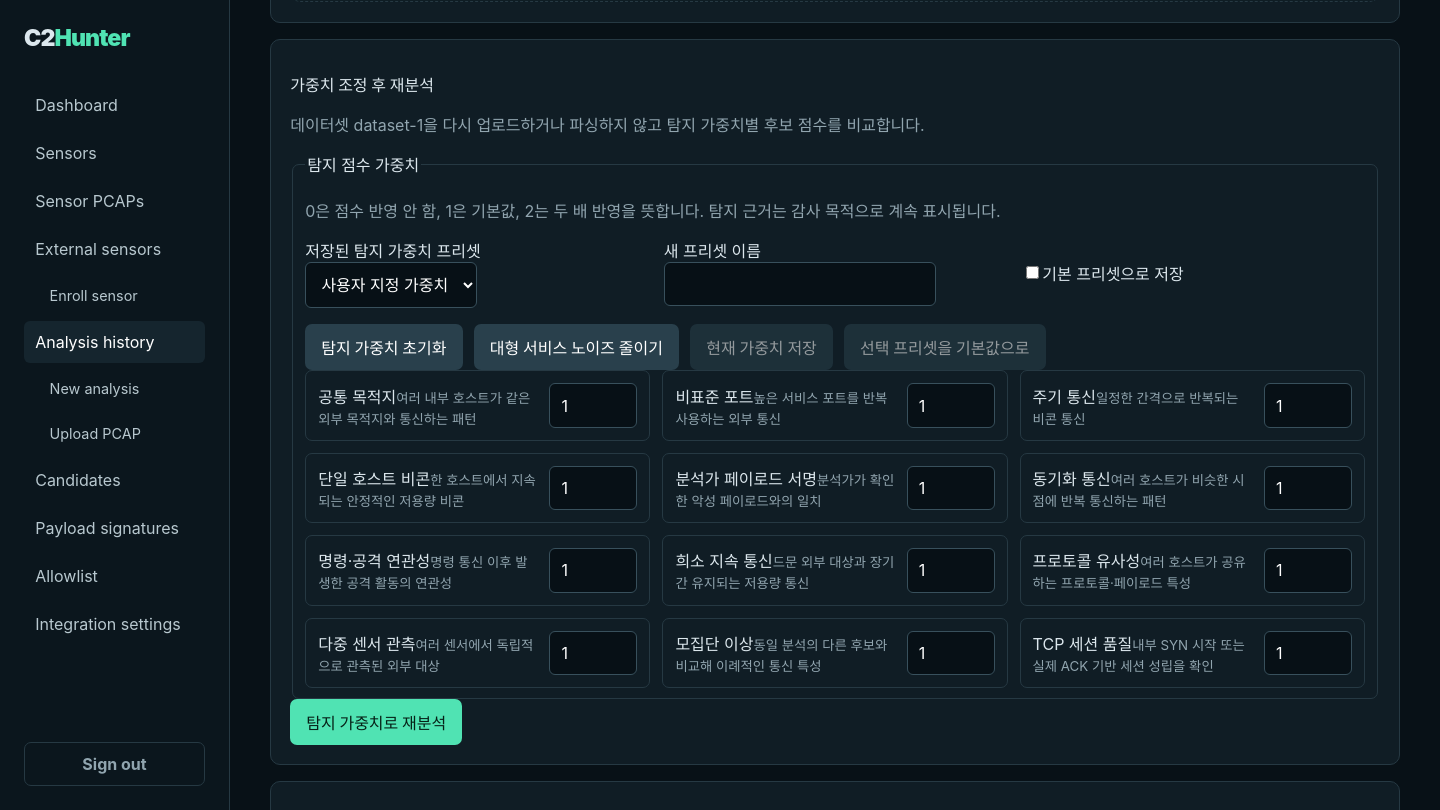
C2Hunter UI › resets reanalysis weights when navigating between completed jobs
(page scrolled)
Replace the text in the number field labelled "공통 목적지" with "0.25" at [593, 406], box top-left (549, 383), bottom-right (637, 428)
(page scrolled)
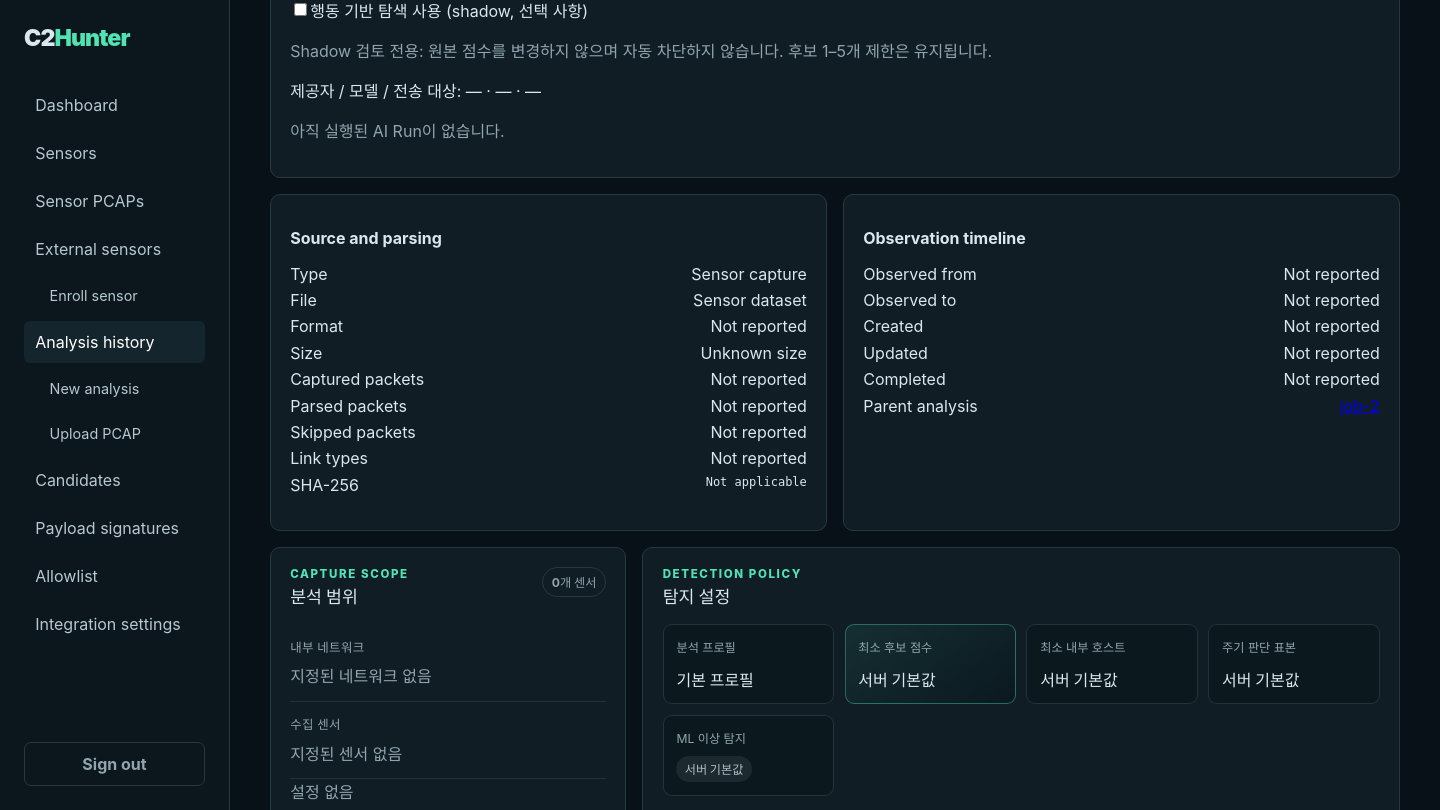
Click the link "job-2" at [1360, 406], box top-left (1340, 396), bottom-right (1380, 416)
(page scrolled)
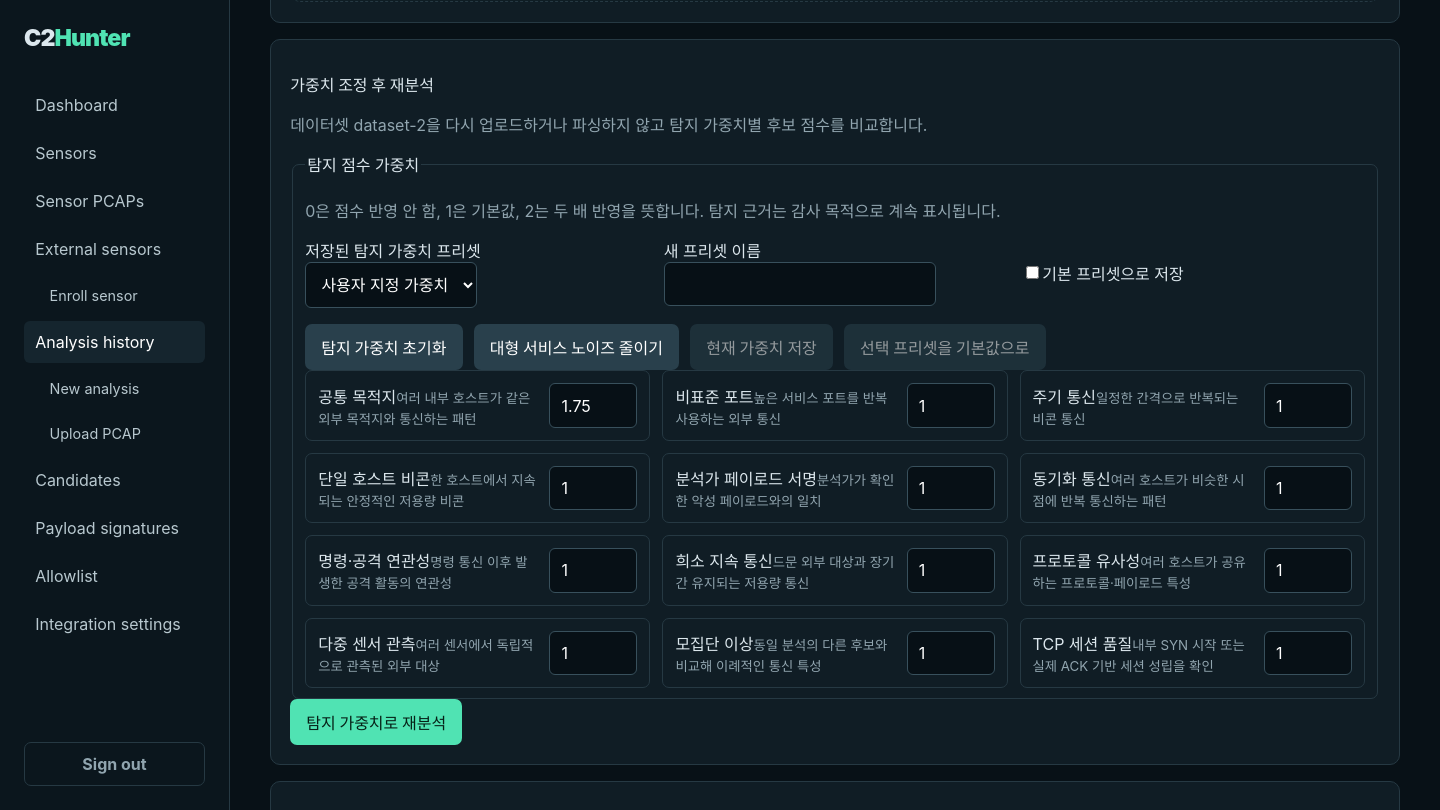
Expected: the number field labelled "공통 목적지" holds "1.75", top-left (549, 383), bottom-right (637, 428)
